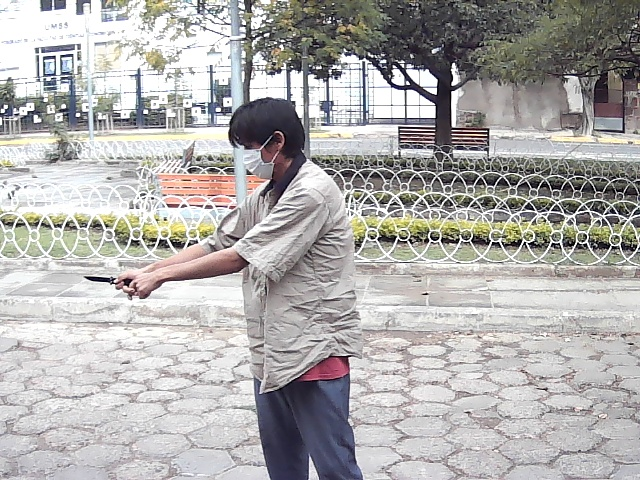cuchillo: (75, 264, 149, 300)
